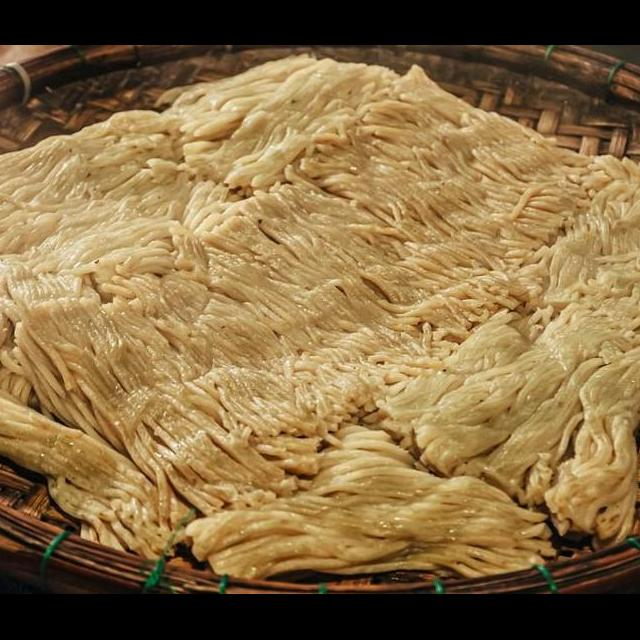mi: (0, 189, 468, 527), (365, 149, 640, 552), (246, 60, 604, 344), (168, 418, 562, 594), (0, 103, 246, 303), (136, 50, 410, 204), (0, 368, 196, 565)
